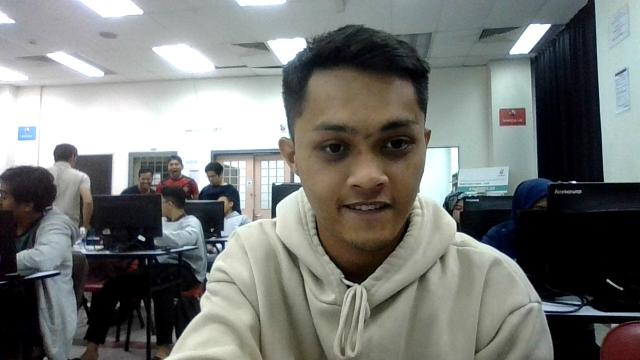senang: (296, 66, 424, 255)
